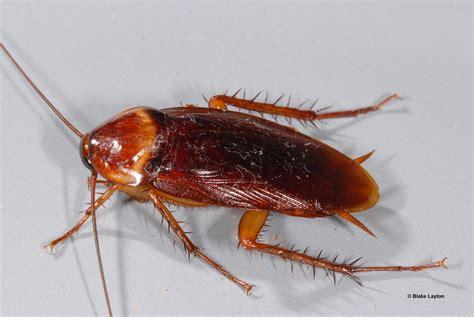cockroach: (72, 85, 384, 276)
